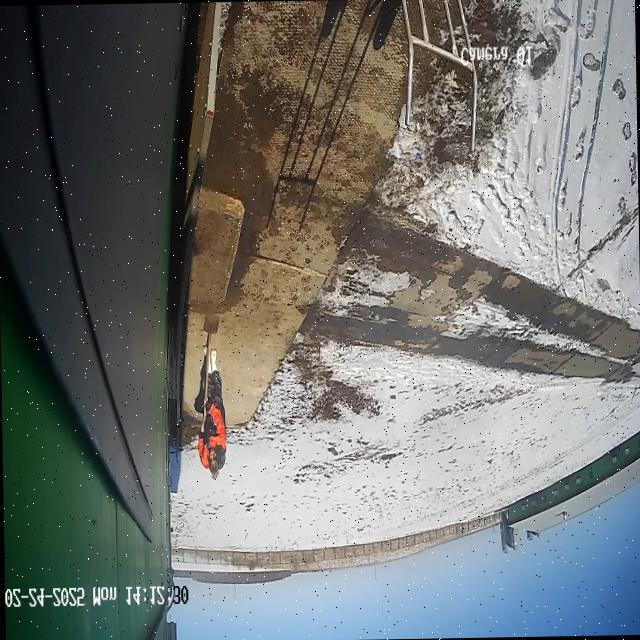Red uniform: (193, 343, 228, 478)
